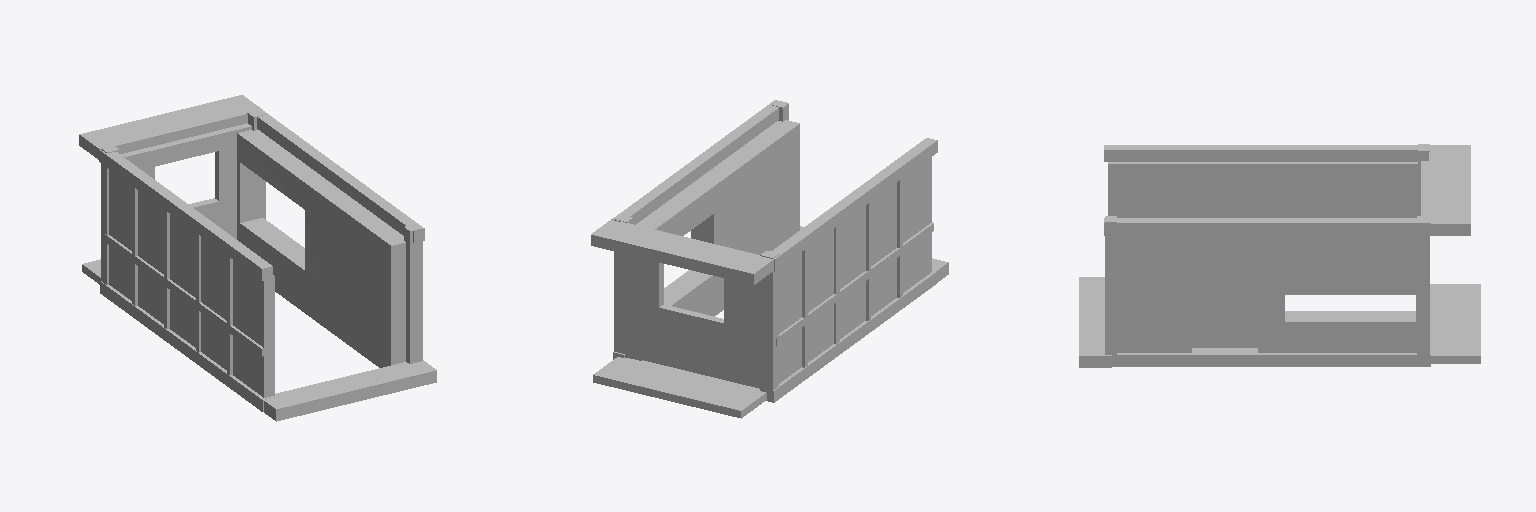
The model's file is wagonFrameLP.obj.
3 renders of one model, left to right at view 1: azimuth 30°, elevation 25°; view 2: azimuth 150°, elevation 25°; view 3: azimuth 270°, elevation 25°, orthographic.
Parts seen in each view (by area): view 1: default; view 2: default; view 3: default.
Boxes of the visible parts, box(x1,y1,x2,y2) form: default: box(79, 95, 436, 421); default: box(591, 100, 948, 418); default: box(1079, 144, 1480, 367).
Bounding box in the file's own units: 8.41 × 7.12 × 17.88.